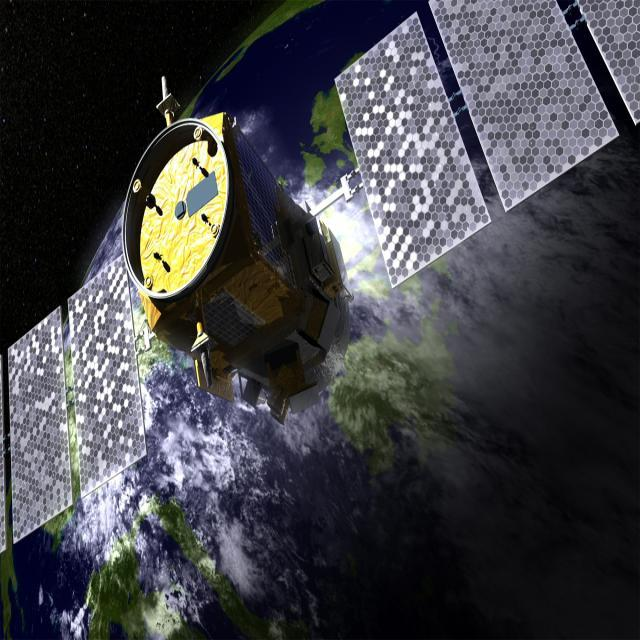sat: (0, 2, 640, 544)
